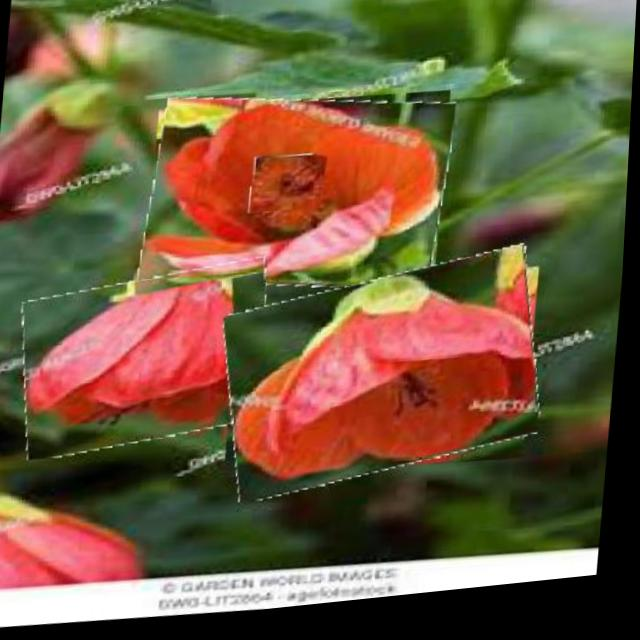Flower: (220, 254, 552, 509), (142, 83, 458, 314), (18, 260, 281, 464), (251, 158, 327, 223)
